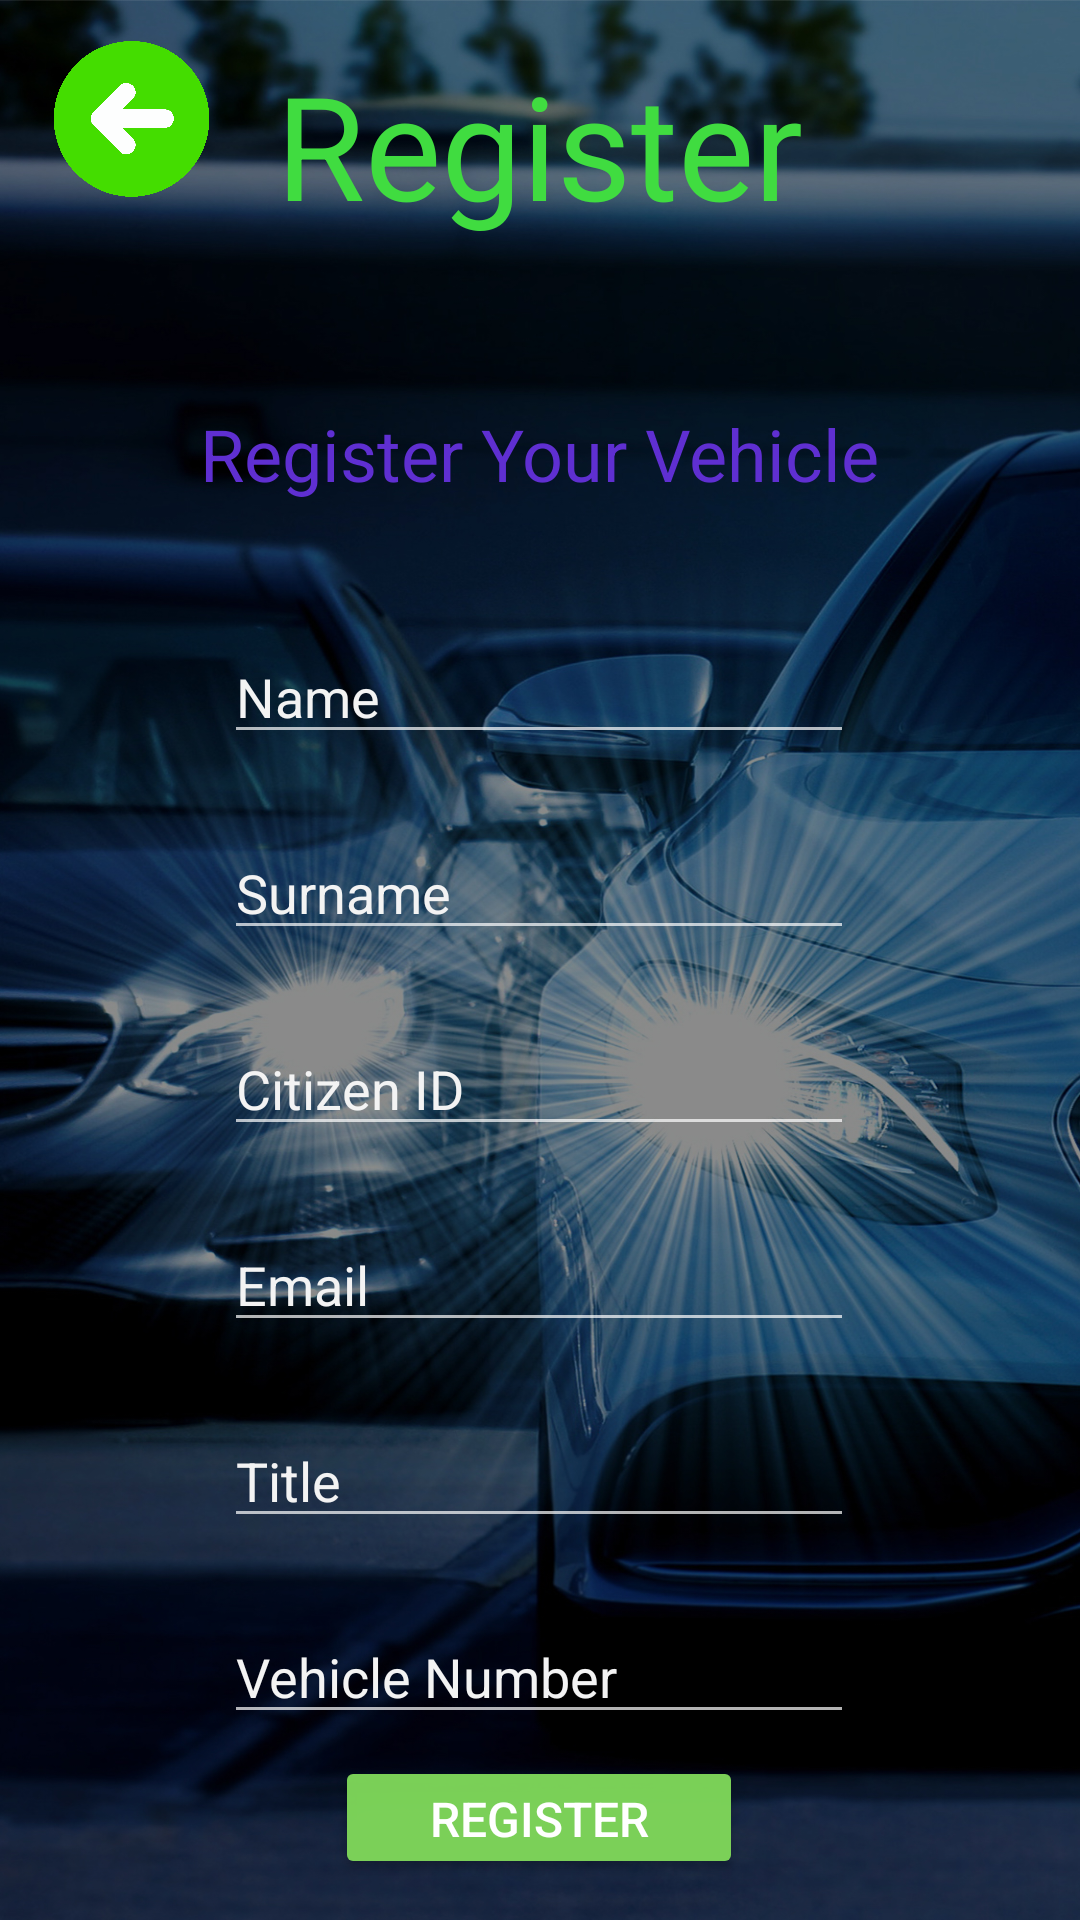

Named icons in this screenshot (1080px x 1920px) and their centers, [x,y]:
previous: [131,119]
